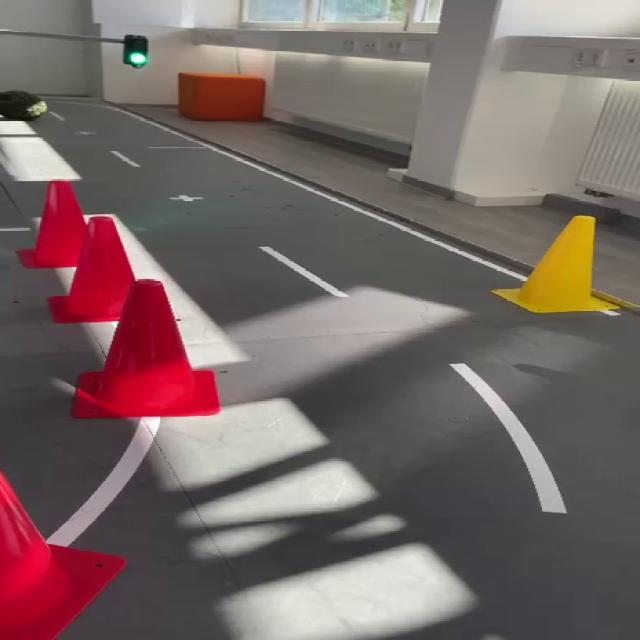Cone-red: (0, 473, 126, 639), (73, 280, 218, 418), (48, 216, 135, 323), (21, 180, 86, 268)
Cones-yellow: (491, 216, 618, 313)
